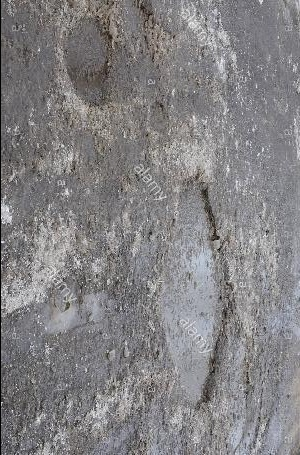pothole: (157, 169, 239, 413), (62, 9, 116, 106), (43, 272, 113, 341)
